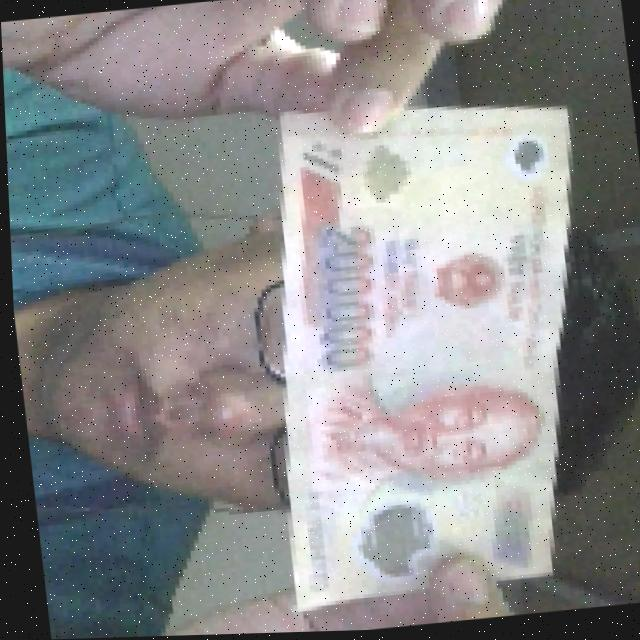200 000 VND: (227, 78, 625, 618)
